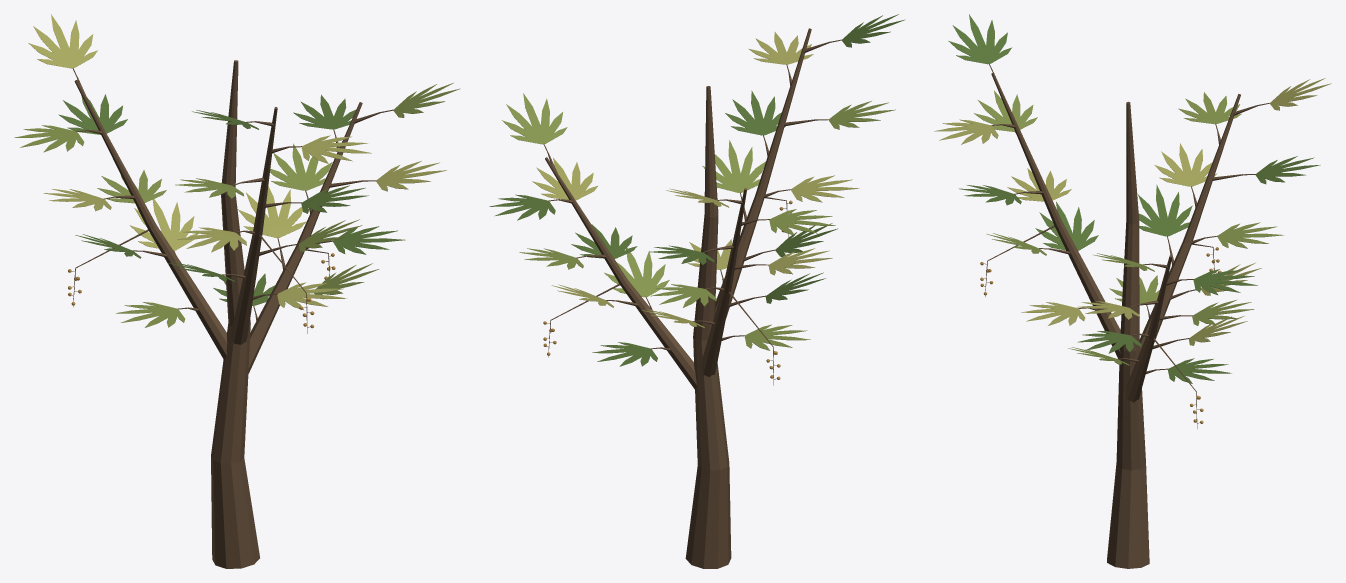
File: macginitiea.glb
3 renders of one model, left to right at view 1: azimuth 30°, elevation 25°; view 2: azimuth 150°, elevation 25°; view 3: azimuth 270°, elevation 25°, orthographic. The views are drawn at different scales.
Visible parts, largest first — view 1: macginitiea-airy-seven-lobed-tree; view 2: macginitiea-airy-seven-lobed-tree; view 3: macginitiea-airy-seven-lobed-tree.
Boxes of the visible parts, x1,y1,x2,y2 form: macginitiea-airy-seven-lobed-tree: (14, 14, 460, 568); macginitiea-airy-seven-lobed-tree: (489, 14, 905, 568); macginitiea-airy-seven-lobed-tree: (934, 14, 1331, 568).
Size of the model in its own units: 1.4 by 1.83 by 1.34.
